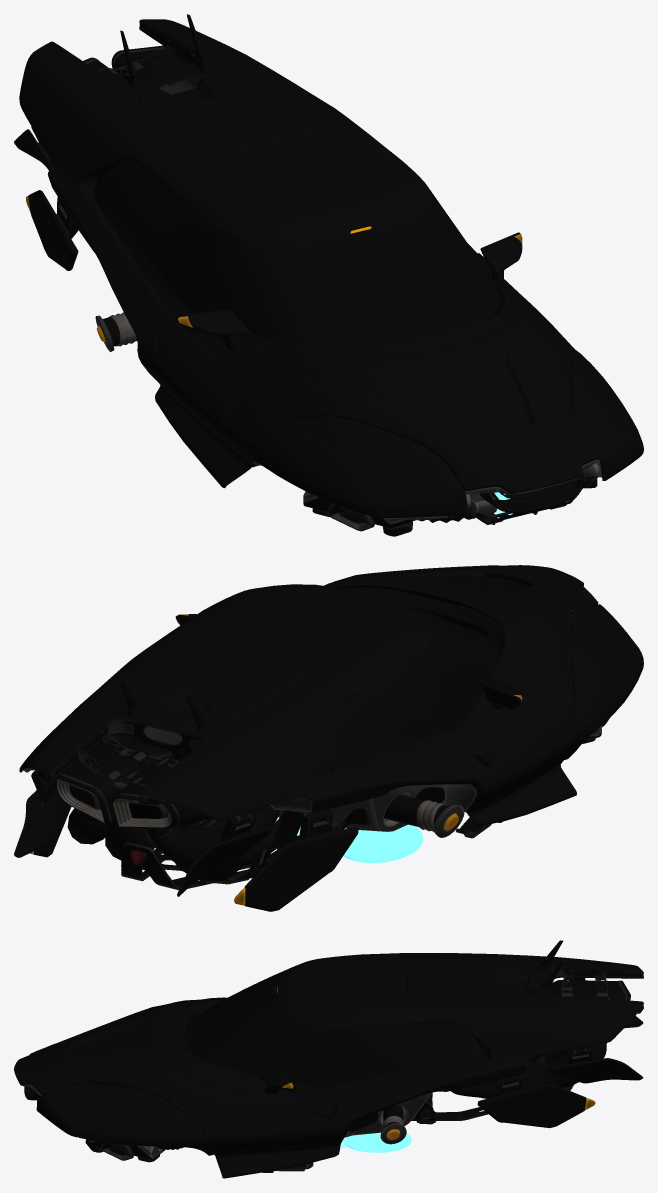
The model's file is hovercar-nowheels.glb.
3 views of the same model, one above another, from view 1: azimuth 30°, elevation 25°; view 2: azimuth 150°, elevation 25°; view 3: azimuth 270°, elevation 25° (orthographic). The views are drawn at different scales.
Parts seen in each view (by area): view 1: car.001_0, car.001_1, car_0, car.005_0; view 2: car.001_0, car.001_1, car_0, car.005_0, HoverPad_Center, car.004_0; view 3: car.001_0, car.001_1, car_0, car.005_0, HoverPad_Center.
Part boxes in pixels (x1,y1,x2,y2): car.001_0: (15, 14, 643, 517); car.001_1: (14, 19, 643, 517); car_0: (31, 21, 599, 536); car.005_0: (95, 312, 601, 530); car.001_0: (15, 566, 643, 910); car.001_1: (14, 565, 643, 911); car_0: (31, 611, 609, 889); car.005_0: (23, 609, 601, 838); HoverPad_Center: (300, 824, 422, 862); car.004_0: (30, 614, 522, 905); car.001_0: (15, 940, 642, 1177); car.001_1: (14, 953, 643, 1178); car_0: (37, 967, 643, 1170); car.005_0: (21, 976, 527, 1172); HoverPad_Center: (343, 1132, 411, 1152).
Size of the model in its own units: 2.84 by 1.94 by 6.26.
8 materials, 3 textured.
